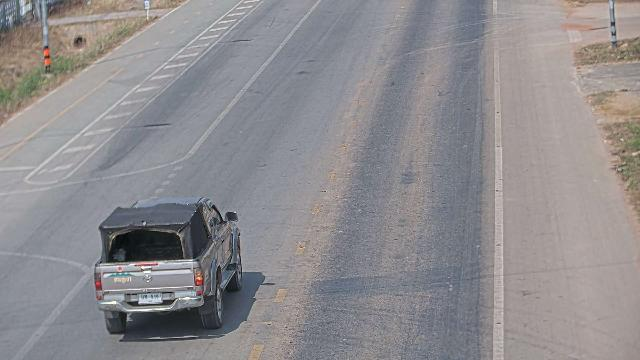pickup-truck: (93, 196, 243, 334)
